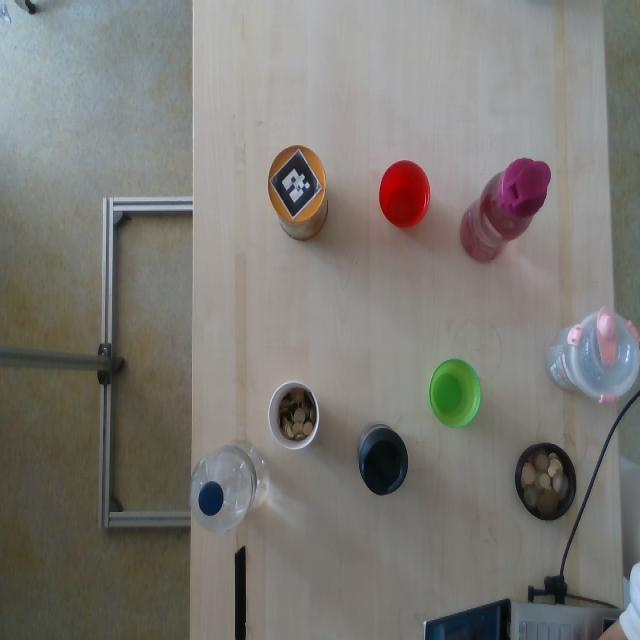cups: (461, 156, 552, 265), (546, 309, 638, 401), (193, 442, 266, 534), (266, 145, 330, 241), (514, 443, 578, 522), (355, 421, 409, 496), (428, 359, 482, 430), (380, 161, 430, 229), (268, 382, 318, 449)
